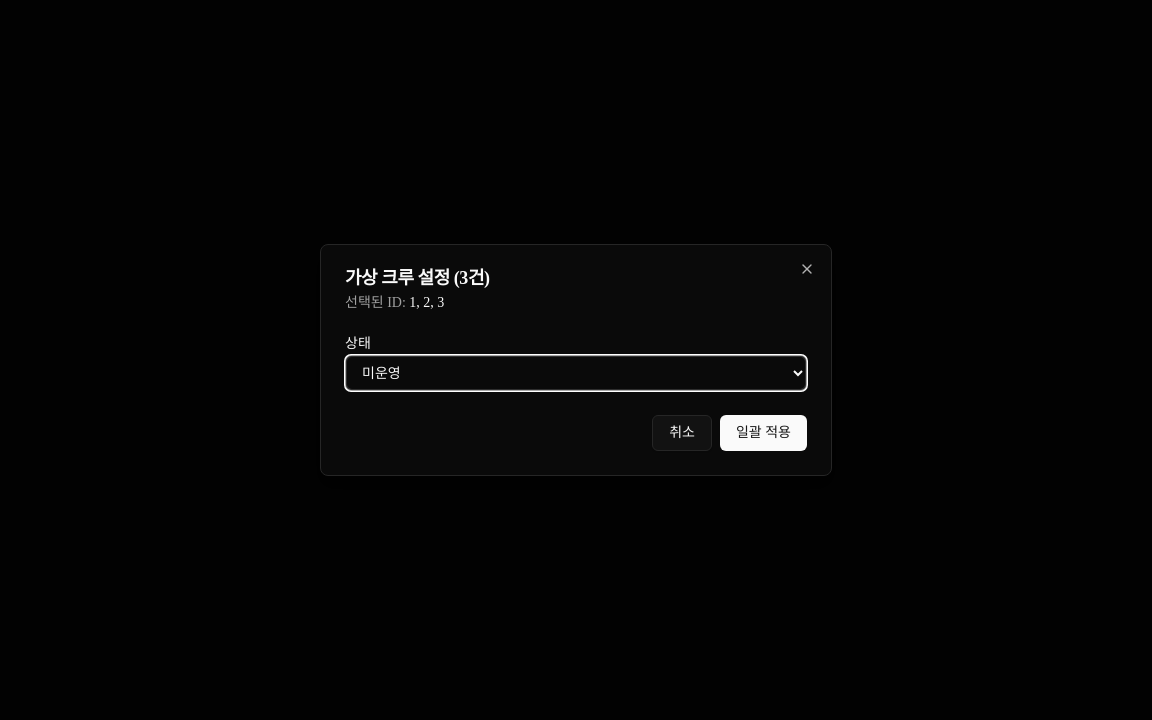
Test case: VirtualCrewBulkDialog › MANAGED 선택 → target/floor/송팩 표시
This screenshot has width=1152, height=720.
Select "운영중" in the dropdown named "가상 DJ 상태" at (576, 373), box [345,355,807,391]
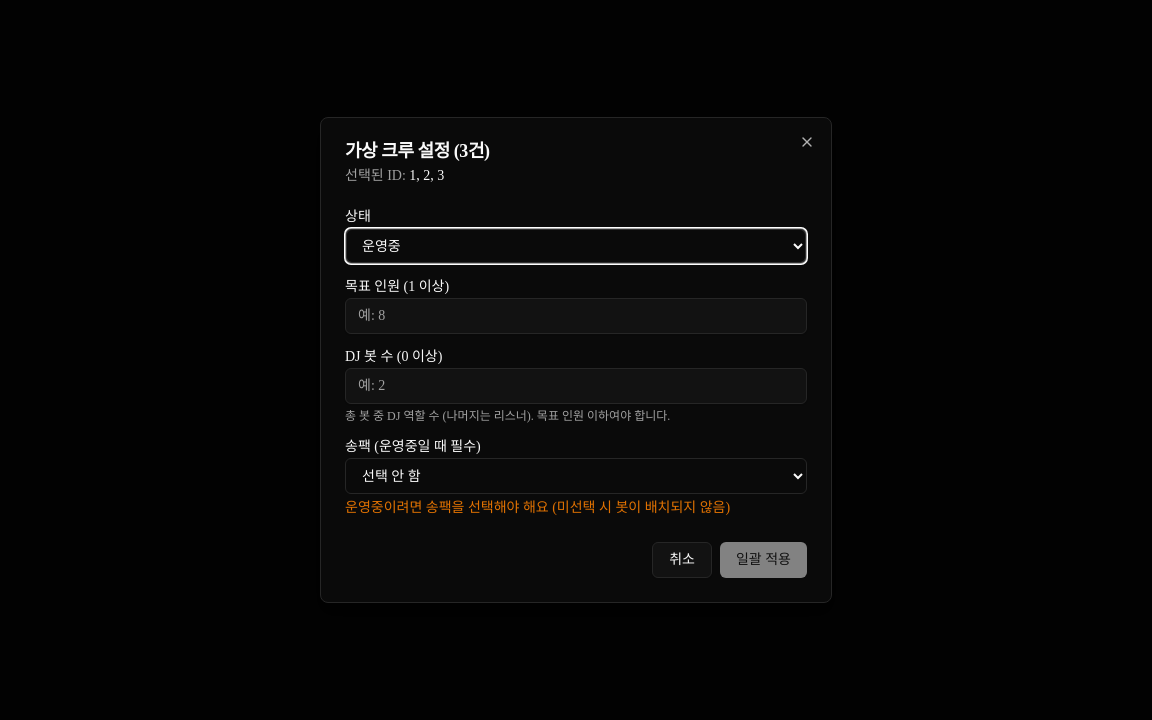
Expected: the number field labelled "목표 인원" is shown, [345,298,807,334]
Expected: the number field labelled "DJ 봇 수" is shown, [345,368,807,404]
Expected: the dropdown named "송팩 선택" is shown, [345,458,807,494]
